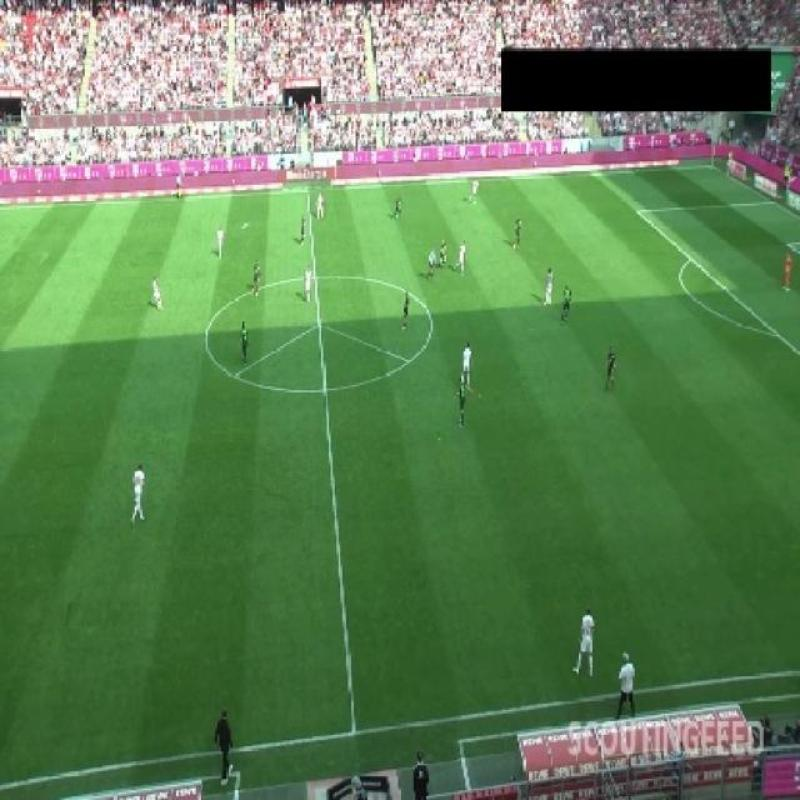1: (701, 156, 721, 174)
10: (682, 246, 700, 265)
11: (769, 320, 787, 344)
13: (298, 180, 320, 198)
14: (308, 270, 322, 284)
15: (312, 374, 338, 406)
16: (334, 714, 375, 752)
2: (763, 192, 781, 209)
7: (778, 233, 796, 250)
9: (632, 202, 648, 219)
c: (190, 320, 224, 359), (418, 308, 442, 336)
